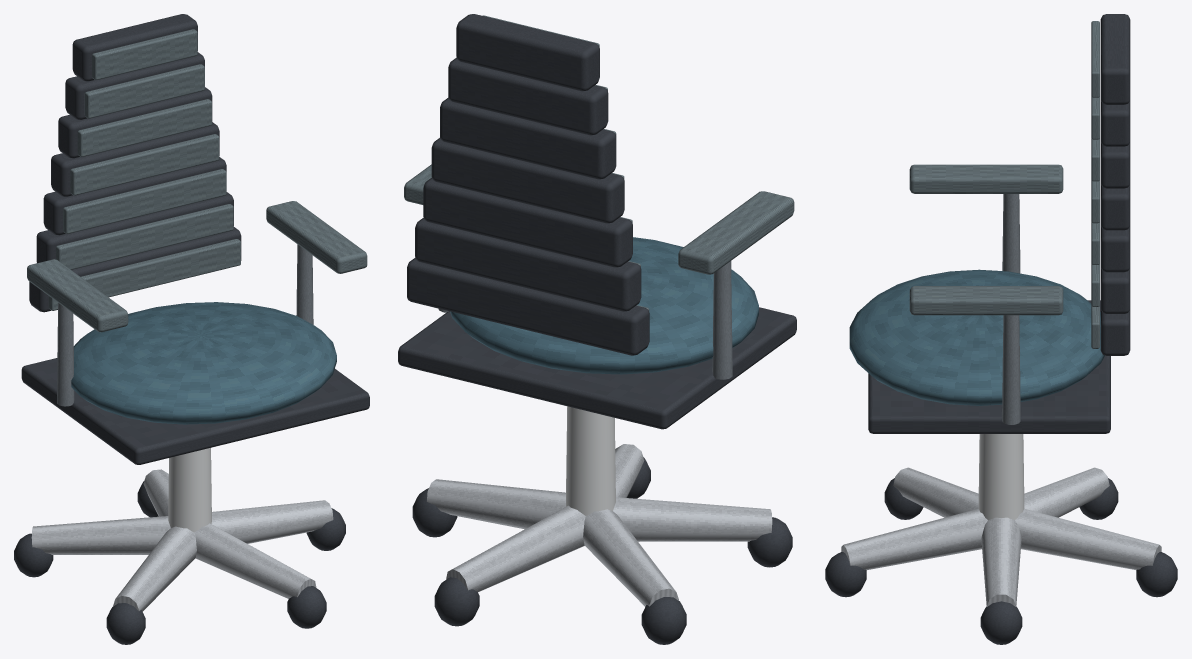
File: chair_task02.glb
3 renders of one model, left to right at view 1: azimuth 30°, elevation 25°; view 2: azimuth 150°, elevation 25°; view 3: azimuth 270°, elevation 25°, orthographic. The views are drawn at different scales.
Parts seen in each view (by area): view 1: back_mesh, seat, star_base, back_shell, undershell, arm_pad, castors, gas_lift, arm_pillar; view 2: back_shell, star_base, undershell, seat, castors, arm_pad, gas_lift, arm_pillar; view 3: seat, star_base, back_shell, undershell, arm_pad, castors, gas_lift, arm_pillar, back_mesh.
Part boxes in pixels (x1,y1,x2,y2): back_mesh: (48, 29, 240, 310); seat: (71, 302, 336, 424); star_base: (31, 469, 333, 611); back_shell: (29, 14, 241, 312); undershell: (21, 358, 369, 464); arm_pad: (27, 201, 367, 332); castors: (14, 481, 345, 644); gas_lift: (168, 448, 211, 532); arm_pillar: (57, 244, 313, 406); back_shell: (407, 14, 649, 355); star_base: (427, 444, 772, 606); undershell: (398, 307, 796, 429); seat: (450, 237, 758, 374); castors: (412, 457, 792, 644); arm_pad: (404, 164, 794, 274); gas_lift: (566, 406, 615, 515); arm_pillar: (438, 261, 732, 379); seat: (849, 269, 1104, 405); star_base: (841, 467, 1161, 606); back_shell: (1100, 14, 1130, 355); undershell: (868, 300, 1110, 433); arm_pad: (909, 164, 1063, 315); castors: (825, 478, 1177, 644); gas_lift: (978, 434, 1024, 519); arm_pillar: (1002, 194, 1020, 424); back_mesh: (1091, 21, 1099, 348).
Size of the model in its own units: 0.6984 by 1.19 by 0.7115.
Materials: 6 (5 with a texture image).
